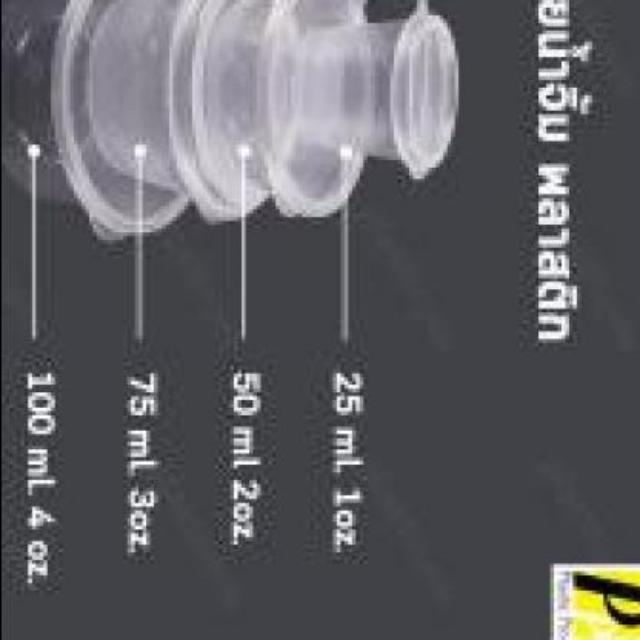plastic_box: (3, 0, 198, 260), (85, 0, 278, 222), (206, 0, 370, 224), (286, 0, 458, 184)
